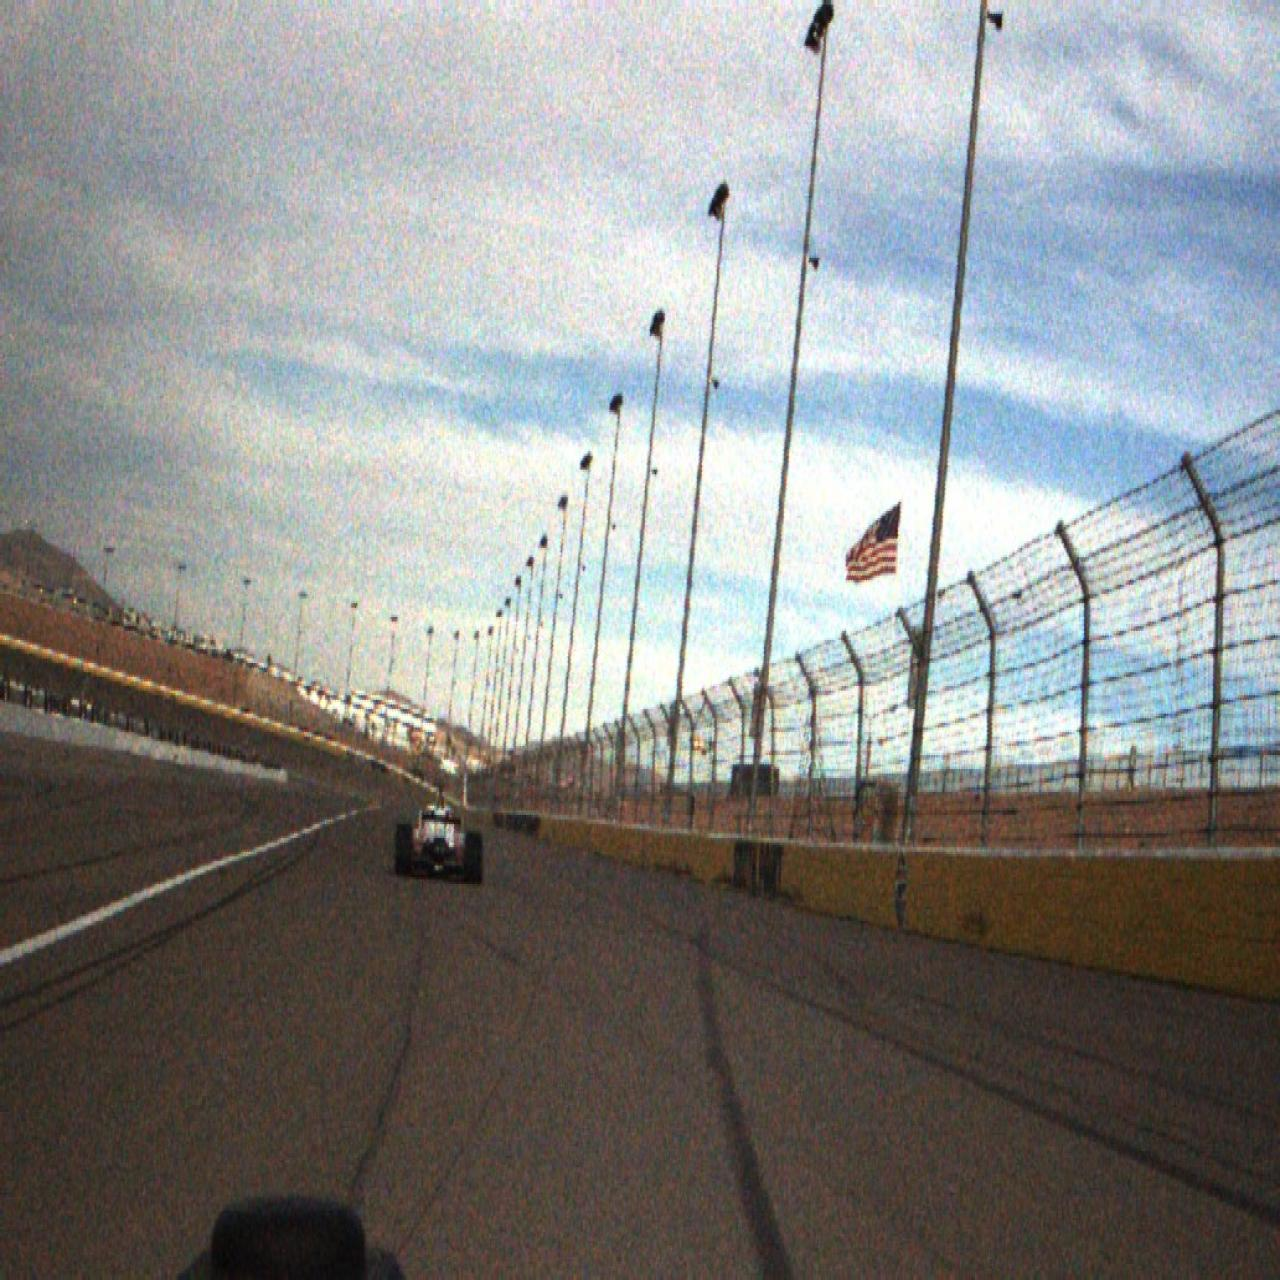AV: (395, 782, 483, 885)
Wheel: (465, 830, 483, 885), (395, 824, 413, 874)
